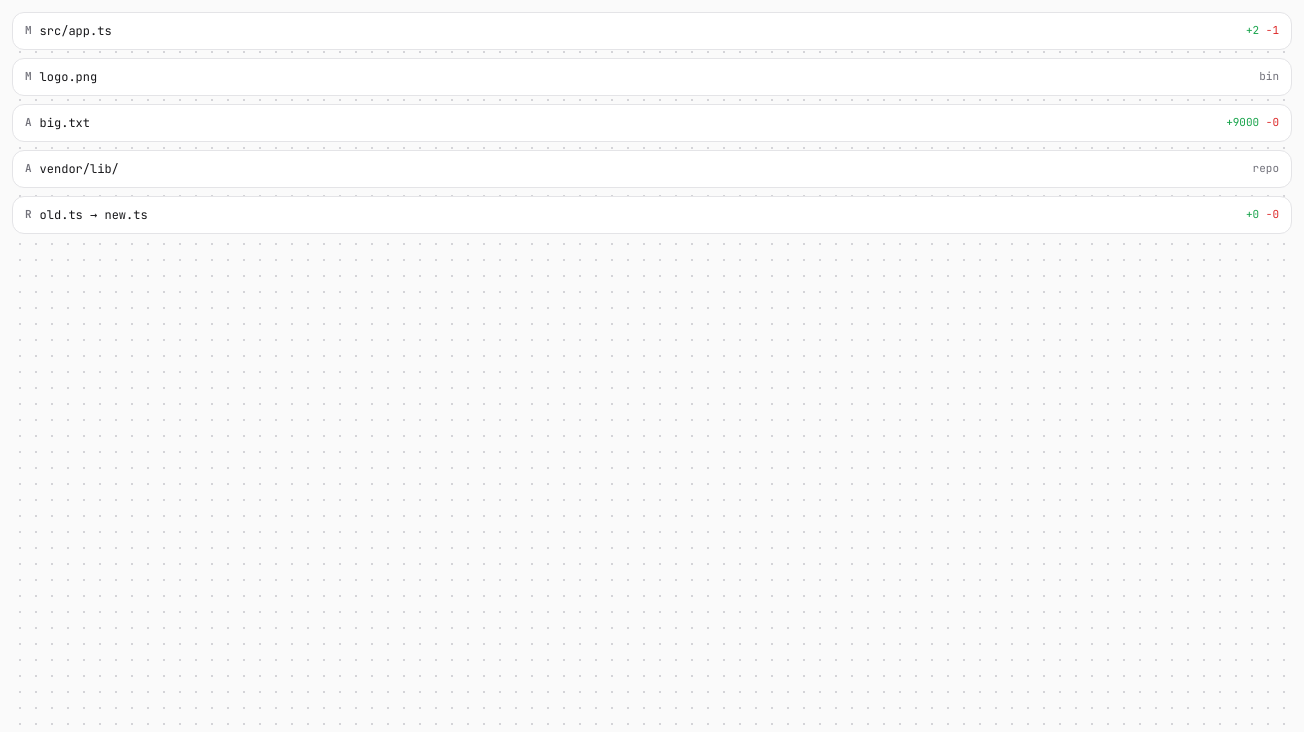
Test: ReviewTab › reports a failed file load in its panel
Click the button "M src/app.ts +2 -1" at (76, 31), box [13,13,1291,49]
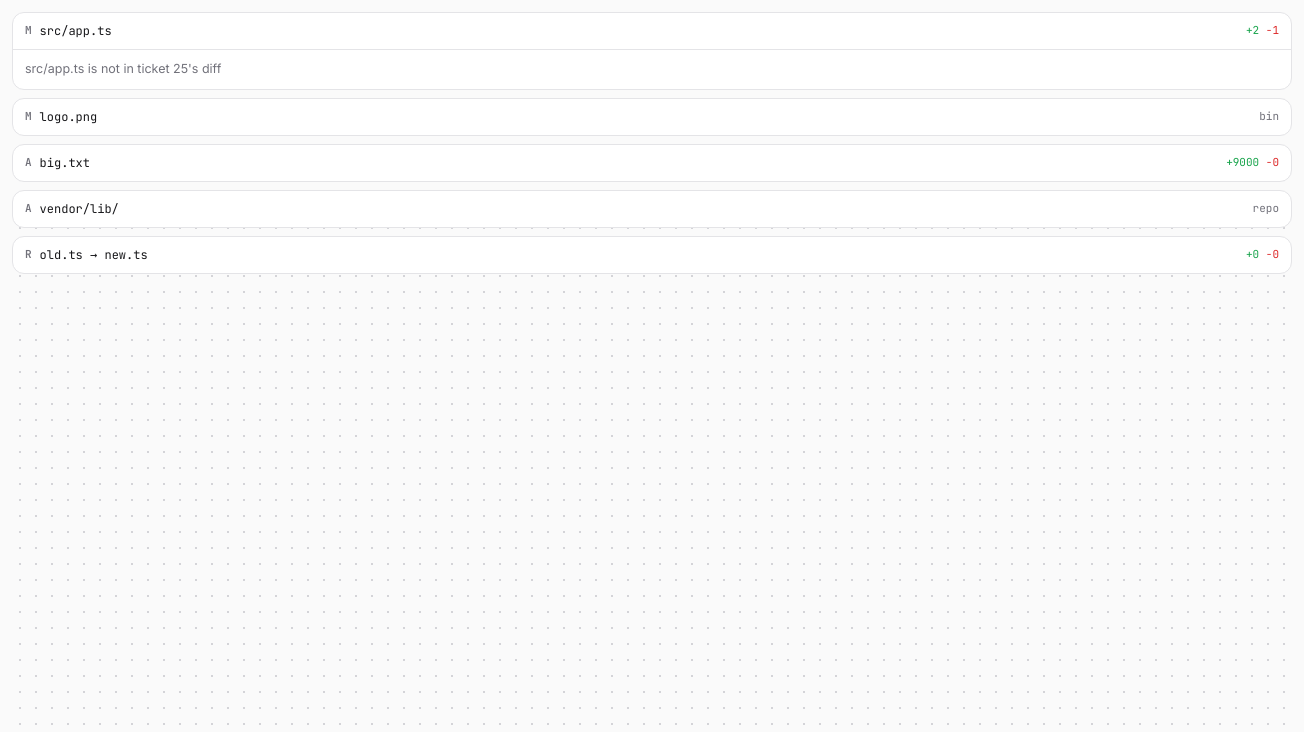
expect the text "src/app.ts is not in ticket 25's diff" is shown: met, box [25,61,221,76]
